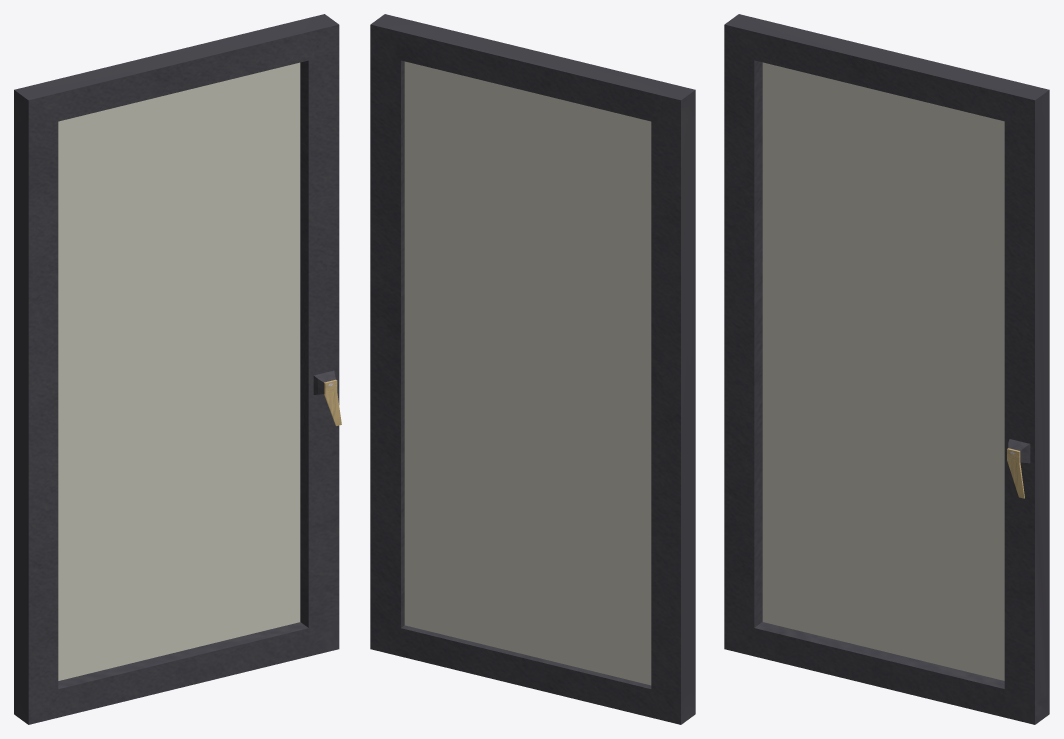
Rendered from window_left.fbx.
3 views of the same model, side by side, from view 1: azimuth 30°, elevation 25°; view 2: azimuth 150°, elevation 25°; view 3: azimuth 330°, elevation 25° (orthographic).
Visible parts, largest first — view 1: Glass; view 2: Glass; view 3: Glass.
Boxes of the visible parts, x1,y1,x2,y2 form: Glass: (14, 14, 341, 724); Glass: (370, 14, 695, 724); Glass: (724, 14, 1049, 724).
Bounding box in the file's own units: 233 × 448 × 27.89.
